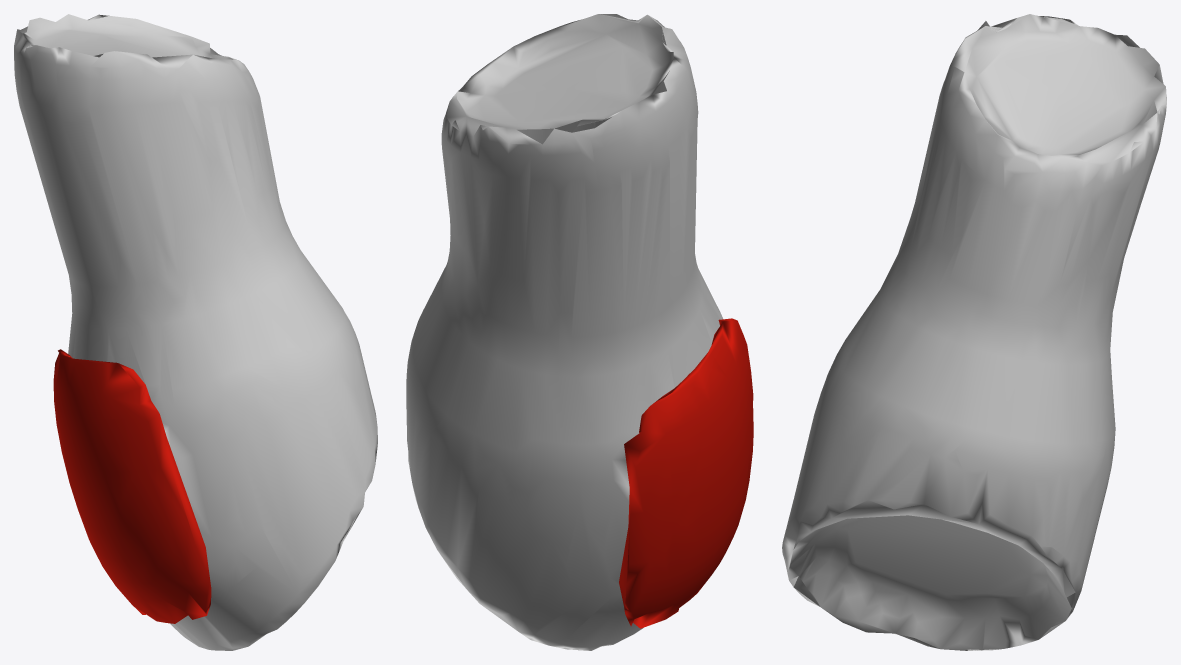
Rendered from Nao6_Right_Arm_Forearm.obj.
3 renders of one model, left to right at view 1: azimuth 30°, elevation 25°; view 2: azimuth 150°, elevation 25°; view 3: azimuth 270°, elevation 25°, orthographic. The views are drawn at different scales.
Visible parts, largest first — view 1: Nao6_Right_Arm_Forearm; view 2: Nao6_Right_Arm_Forearm; view 3: Nao6_Right_Arm_Forearm.
Boxes of the visible parts, box(x1,y1,x2,y2) form: Nao6_Right_Arm_Forearm: box(14, 14, 377, 650); Nao6_Right_Arm_Forearm: box(406, 14, 753, 650); Nao6_Right_Arm_Forearm: box(782, 14, 1166, 650).
Bounding box in the file's own units: 0.4377 × 0.9069 × 0.5319.
